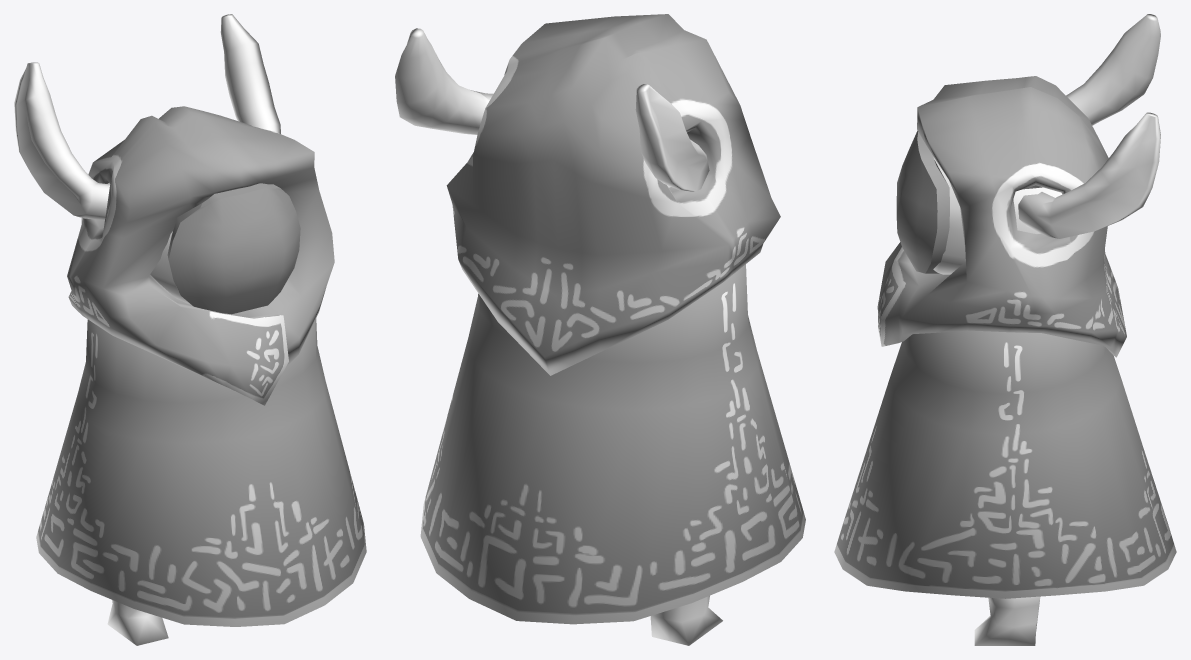
The model's file is Character_Model_final.fbx.
3 renders of one model, left to right at view 1: azimuth 30°, elevation 25°; view 2: azimuth 150°, elevation 25°; view 3: azimuth 270°, elevation 25°, orthographic. The views are drawn at different scales.
Parts seen in each view (by area): view 1: Lichaam, Capuchon, Masker, GezichtEnOren, Been_Rechts; view 2: Lichaam, Capuchon, GezichtEnOren, Been_Rechts; view 3: Lichaam, Capuchon, GezichtEnOren, Masker, Been_Links.
Boxes of the visible parts, bbox=[...] form: Lichaam: bbox=[36, 318, 366, 626]; Capuchon: bbox=[67, 106, 334, 405]; Masker: bbox=[167, 183, 300, 314]; GezichtEnOren: bbox=[14, 14, 280, 304]; Been_Rechts: bbox=[107, 600, 168, 645]; Lichaam: bbox=[420, 264, 805, 624]; Capuchon: bbox=[446, 14, 780, 375]; GezichtEnOren: bbox=[395, 28, 709, 191]; Been_Rechts: bbox=[650, 595, 722, 645]; Lichaam: bbox=[834, 330, 1176, 598]; Capuchon: bbox=[877, 76, 1126, 357]; GezichtEnOren: bbox=[933, 14, 1160, 274]; Masker: bbox=[896, 130, 949, 273]; Been_Links: bbox=[974, 596, 1040, 645].
Size of the model in its own units: 0.0328 by 0.0573 by 0.0328.
3 materials, 2 textured.
